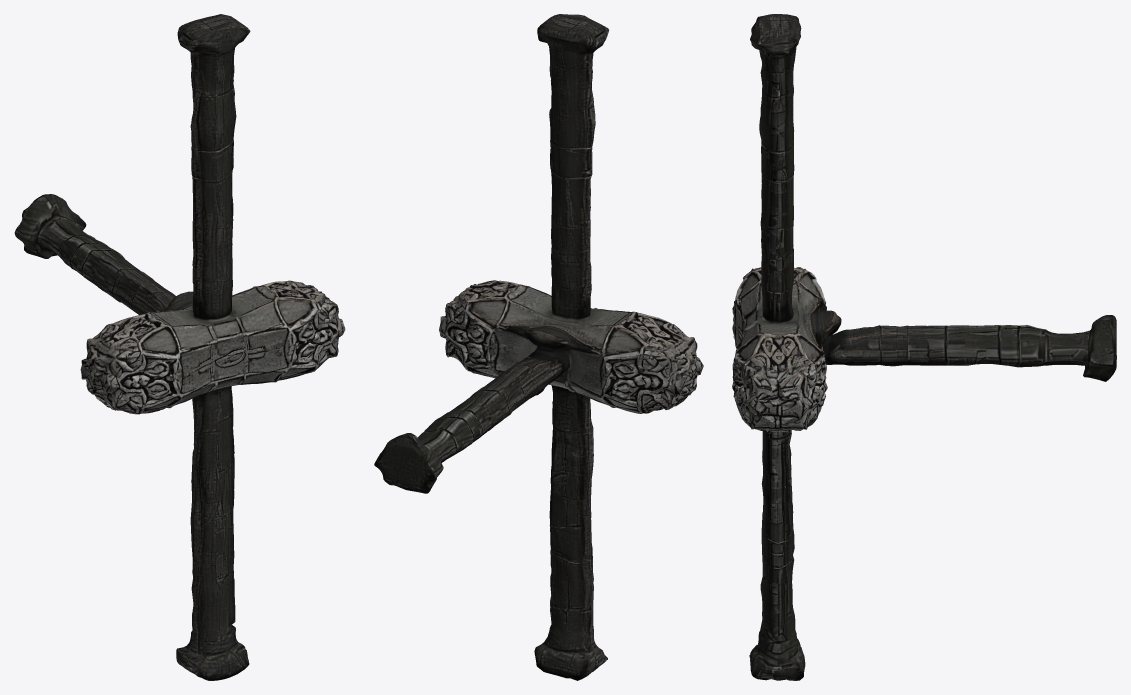
Rendered from prison_vault.glb.
3 renders of one model, left to right at view 1: azimuth 30°, elevation 25°; view 2: azimuth 150°, elevation 25°; view 3: azimuth 270°, elevation 25°, orthographic.
Parts seen in each view (by area): view 1: tripo_node_a22089b0-d950-4743-9045-2e3799e9e6c1; view 2: tripo_node_a22089b0-d950-4743-9045-2e3799e9e6c1; view 3: tripo_node_a22089b0-d950-4743-9045-2e3799e9e6c1.
Boxes of the visible parts, bbox=[...] form: tripo_node_a22089b0-d950-4743-9045-2e3799e9e6c1: bbox=[14, 14, 345, 680]; tripo_node_a22089b0-d950-4743-9045-2e3799e9e6c1: bbox=[374, 14, 703, 680]; tripo_node_a22089b0-d950-4743-9045-2e3799e9e6c1: bbox=[732, 14, 1116, 680].
Bounding box in the file's own units: 0.3923 × 1 × 0.5348.
1 material, 1 textured.
